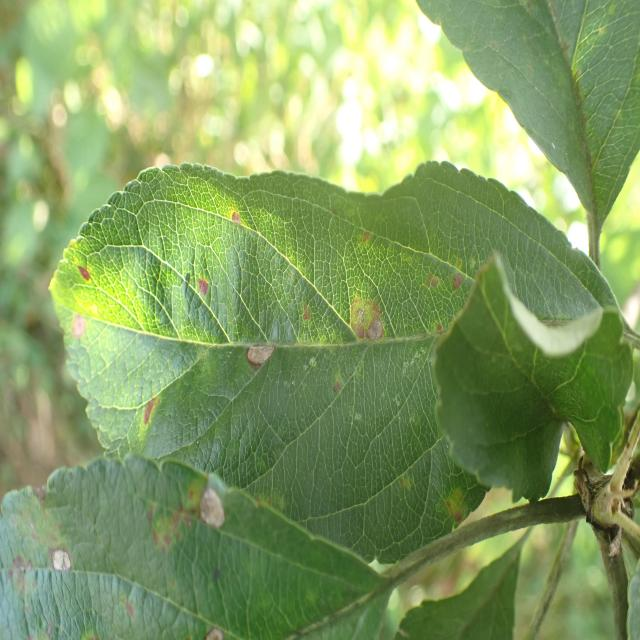frog-eye-leaf-spot: (49, 165, 635, 565), (0, 453, 386, 640)
